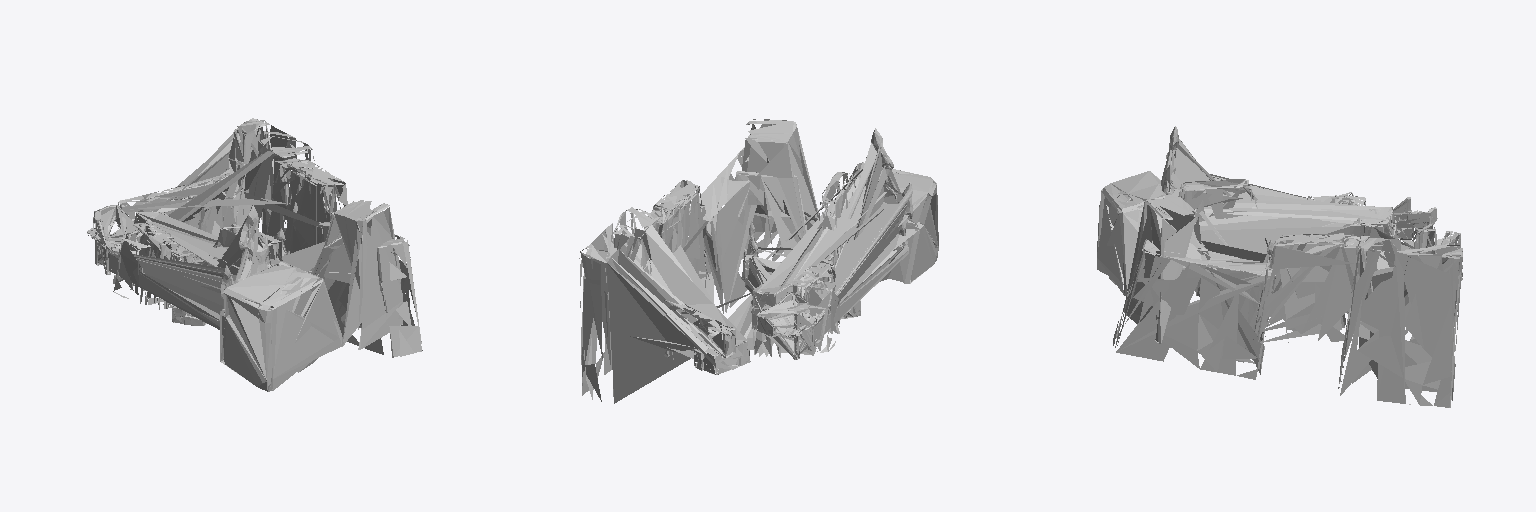
Rendered from cellDesert_ScorchedPlainsNorthWest_Proxy-sharedassets3.assets-572.obj.
The picture shows the model from 3 angles: view 1: azimuth 30°, elevation 25°; view 2: azimuth 150°, elevation 25°; view 3: azimuth 270°, elevation 25°; orthographic projection.
Visible parts, largest first — view 1: cellDesert_ScorchedPlainsNorthWest_Proxy_1, cellDesert_ScorchedPlainsNorthWest_Proxy_0, cellDesert_ScorchedPlainsNorthWest_Proxy_4; view 2: cellDesert_ScorchedPlainsNorthWest_Proxy_1, cellDesert_ScorchedPlainsNorthWest_Proxy_0, cellDesert_ScorchedPlainsNorthWest_Proxy_4; view 3: cellDesert_ScorchedPlainsNorthWest_Proxy_1, cellDesert_ScorchedPlainsNorthWest_Proxy_0.
Part boxes in pixels (left/top/right/bottom): cellDesert_ScorchedPlainsNorthWest_Proxy_1: left=87, top=118, right=422, bottom=391; cellDesert_ScorchedPlainsNorthWest_Proxy_0: left=87, top=205, right=343, bottom=391; cellDesert_ScorchedPlainsNorthWest_Proxy_4: left=205, top=205, right=289, bottom=298; cellDesert_ScorchedPlainsNorthWest_Proxy_1: left=579, top=119, right=938, bottom=403; cellDesert_ScorchedPlainsNorthWest_Proxy_0: left=745, top=143, right=938, bottom=359; cellDesert_ScorchedPlainsNorthWest_Proxy_4: left=742, top=128, right=913, bottom=281; cellDesert_ScorchedPlainsNorthWest_Proxy_1: left=1097, top=127, right=1462, bottom=407; cellDesert_ScorchedPlainsNorthWest_Proxy_0: left=1097, top=130, right=1437, bottom=295.
Size of the model in its own units: 168 by 163 by 263.